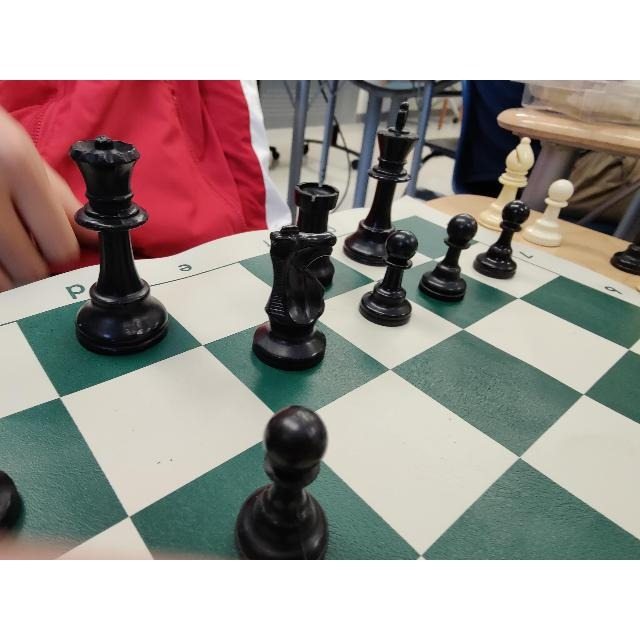black-king: (344, 100, 419, 267)
black-knight: (253, 226, 337, 372)
black-pawn: (234, 405, 329, 559), (360, 230, 416, 326), (420, 213, 477, 305), (475, 200, 527, 280)
black-queen: (70, 135, 172, 355)
black-rook: (292, 182, 340, 236)
